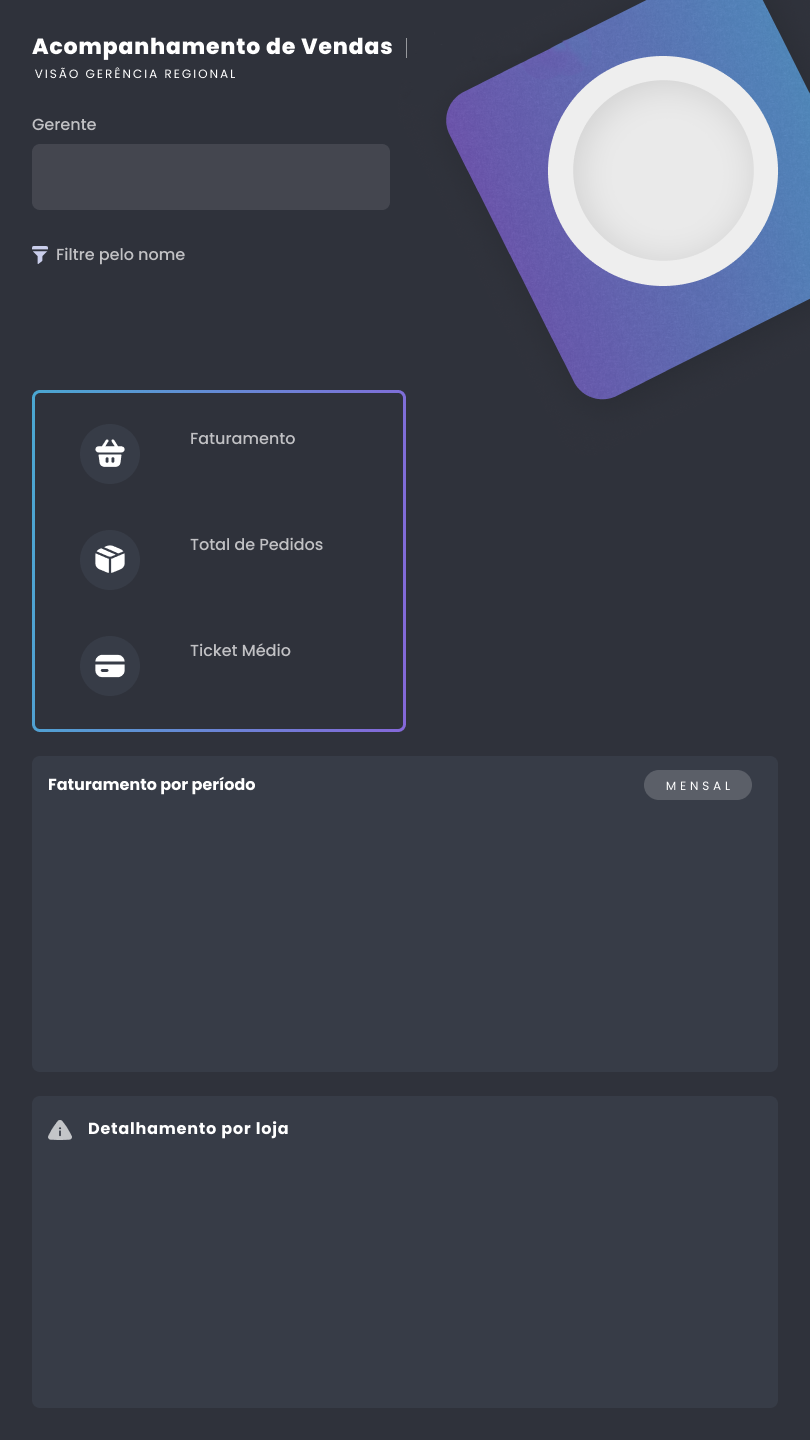

The page's visual inventory and layout, read from the dashboard file:
{"tool":"powerbi","page":{"name":"Mobile","canvas":[720,1280],"ordinal":1},"visuals":[{"type":"clusteredColumnChart","fields":{"Y":["pedidos.Faturamento"],"Category":["calendario.data.Variation.Hierarquia de datas.Mês"]},"box":[26.4,687.7,659.8,266.8],"z":0},{"type":"card","fields":{"Values":["pedidos.Faturamento"]},"box":[115.8,387.1,212.6,77.7],"z":1},{"type":"card","fields":{"Values":["pedidos.Qtde_Pedidos"]},"box":[115.8,485.3,212.6,77.7],"z":2},{"type":"card","fields":{"Values":["pedidos.Ticket Médio"]},"box":[115.8,563,212.6,77.7],"z":3},{"type":"tableEx","fields":{"Values":["lojas.nome_loja","pedidos.Faturamento","Divide(pedidos.Faturamento, ScopedEval(pedidos.Faturamento, []))","SparklineData(pedidos.Faturamento_[calendario.mes])"]},"box":[42.5,1017.5,643.7,227.3],"z":4},{"type":"card","fields":{"Values":["Min(lojas.Gerente)"]},"box":[0,115.8,363.6,76.2],"z":5},{"type":"slicer","fields":{"Values":["lojas.Gerente"]},"box":[20.5,258.1,403.2,60.1],"z":6},{"type":"map","fields":{"Y":["lojas.latitude"],"X":["lojas.longitude"],"Size":["pedidos.Faturamento"]},"box":[375.3,363.6,332.8,288.8],"z":7},{"type":"ImageGrid_FC5183B9_926C_45E0_B5F7_0CE9EAF1DA9B","fields":{"ImageURLHQ":["lojas.Imagem"]},"box":[483.8,66,214.1,171.5],"z":8}]}

Visuals, with their boxes in screenshot pixels (x1, y1, x2, y2), scaled from the page's 720x1280 canvas onto the 810x1440 screenshot:
clusteredColumnChart - pedidos.Faturamento x calendario.data.Variation.Hierarquia de datas.Mês: left=30, top=774, right=772, bottom=1074
card - pedidos.Faturamento: left=130, top=435, right=369, bottom=523
card - pedidos.Qtde_Pedidos: left=130, top=546, right=369, bottom=633
card - pedidos.Ticket Médio: left=130, top=633, right=369, bottom=721
tableEx - lojas.nome_loja x pedidos.Faturamento: left=48, top=1145, right=772, bottom=1400
card - Min(lojas.Gerente): left=0, top=130, right=409, bottom=216
slicer - lojas.Gerente: left=23, top=290, right=477, bottom=358
map - lojas.latitude x lojas.longitude: left=422, top=409, right=797, bottom=734
ImageGrid_FC5183B9_926C_45E0_B5F7_0CE9EAF1DA9B - lojas.Imagem: left=544, top=74, right=785, bottom=267
